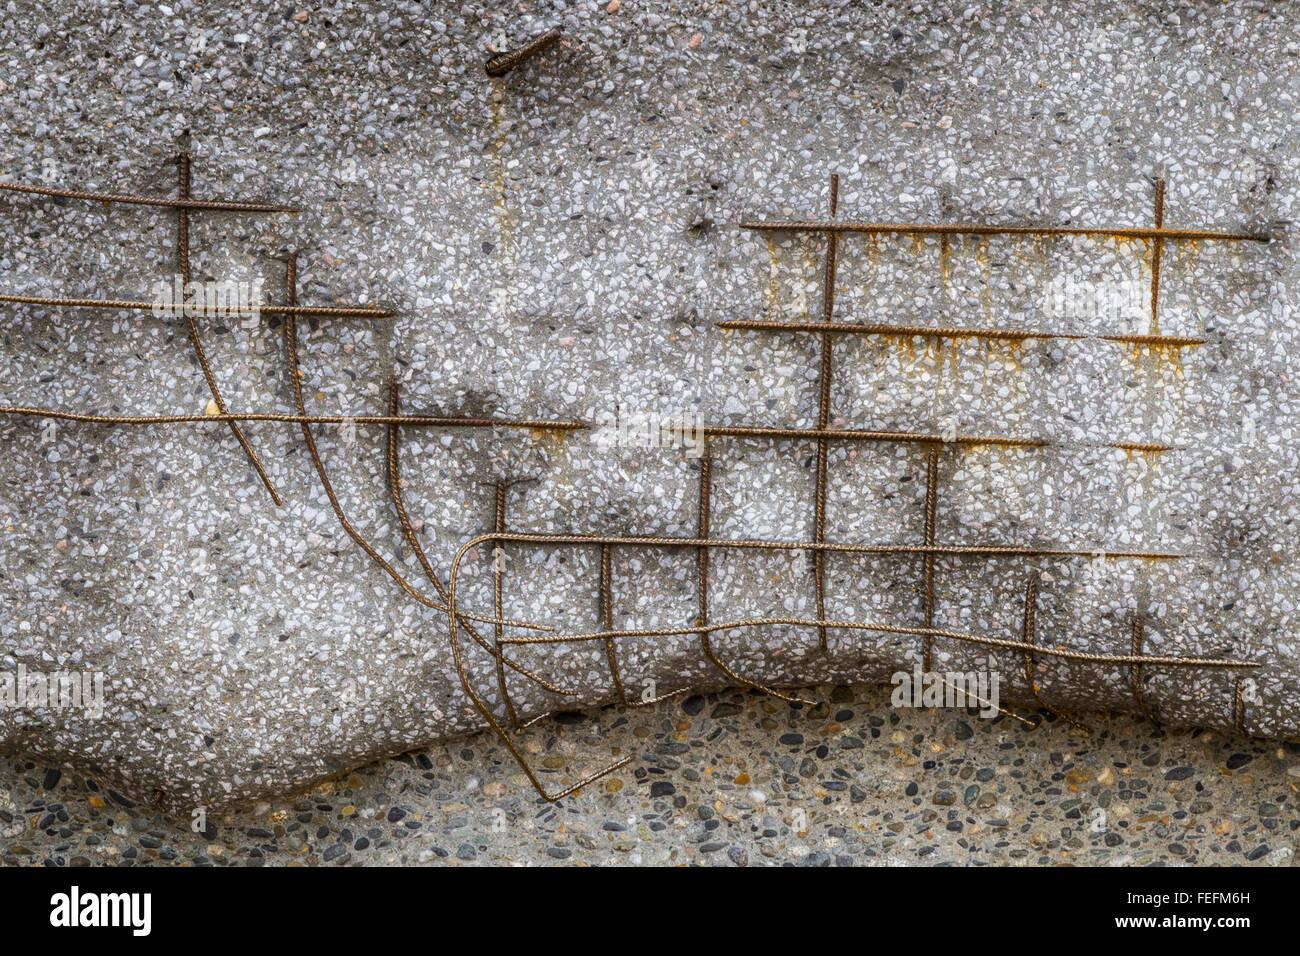Exposed reinforcement: (447, 531, 1187, 804), (284, 251, 556, 633), (386, 384, 583, 697), (495, 616, 1248, 669), (178, 152, 284, 508), (697, 449, 819, 707), (600, 544, 694, 709), (494, 481, 552, 731), (1, 406, 595, 430), (737, 220, 1272, 243), (1023, 577, 1095, 735), (814, 231, 838, 658), (1, 293, 394, 319), (1, 183, 305, 214), (664, 426, 1054, 448), (713, 319, 1088, 341), (482, 26, 560, 79), (922, 448, 936, 671), (1149, 178, 1165, 319), (1095, 333, 1206, 347), (1231, 676, 1245, 737), (1130, 616, 1141, 698), (1105, 442, 1177, 452), (830, 174, 841, 219)
